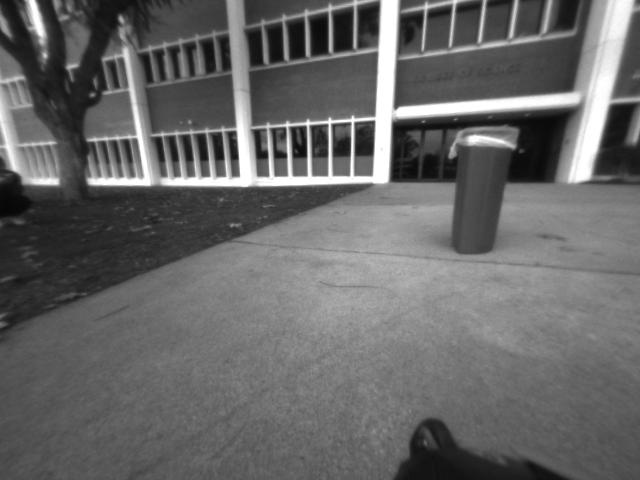trashcan: (446, 120, 524, 265)
